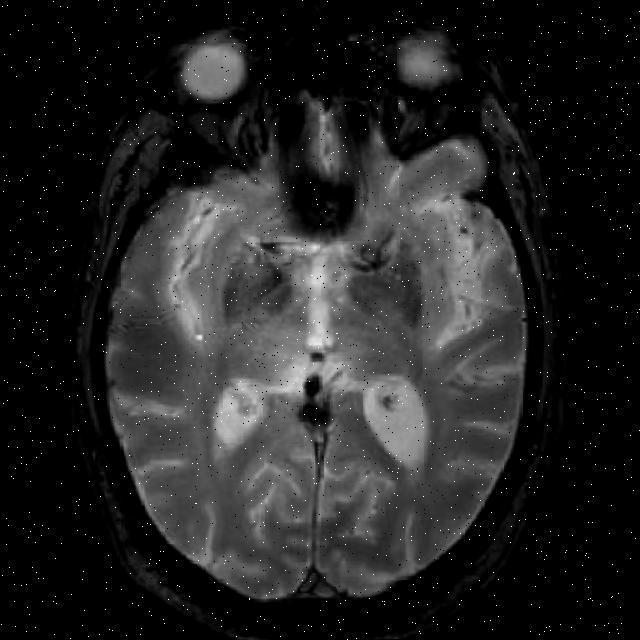EMCI: (168, 182, 226, 382), (218, 370, 268, 450), (368, 374, 412, 447), (435, 194, 479, 258)
